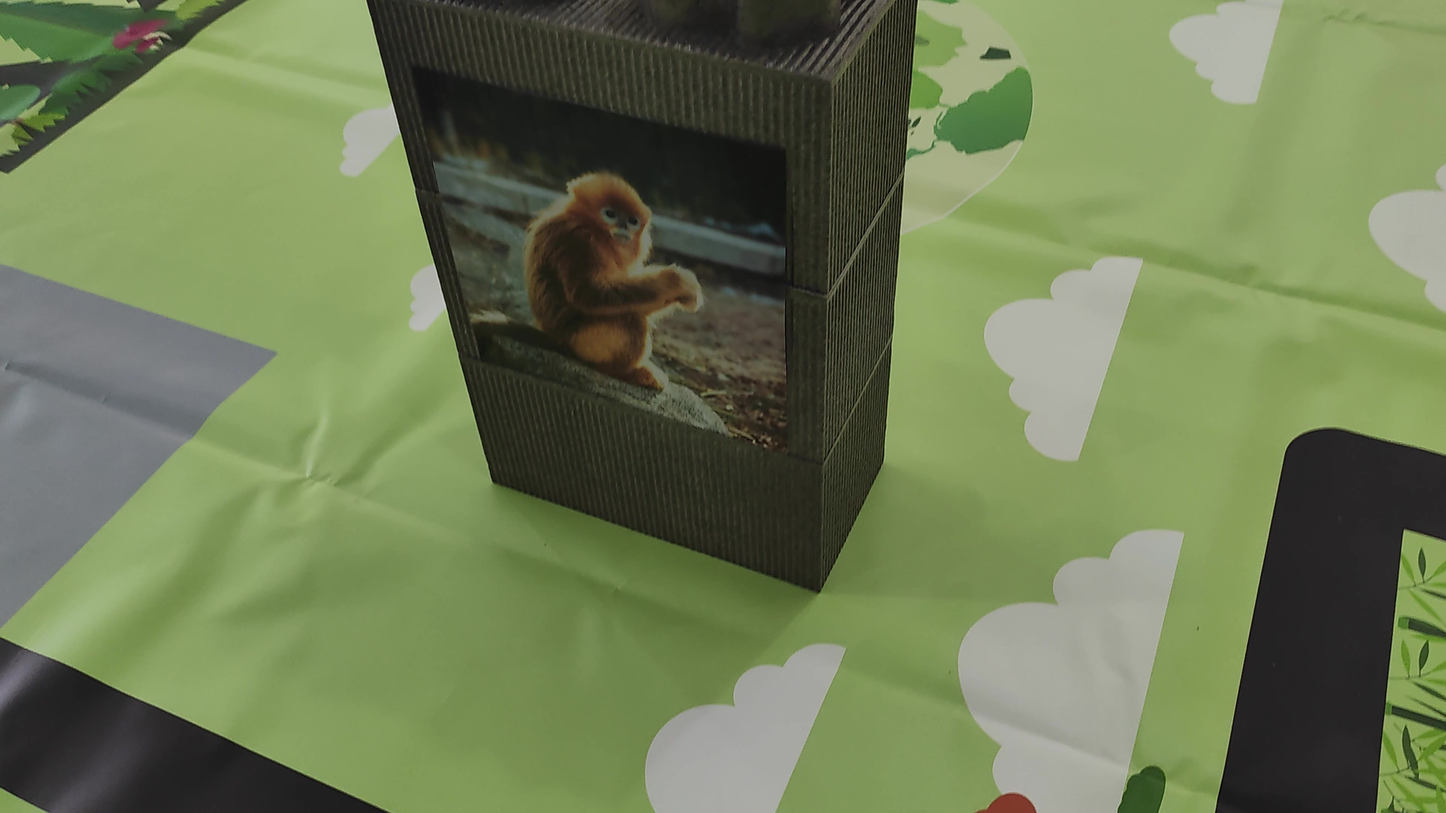monkey: (511, 150, 750, 395)
